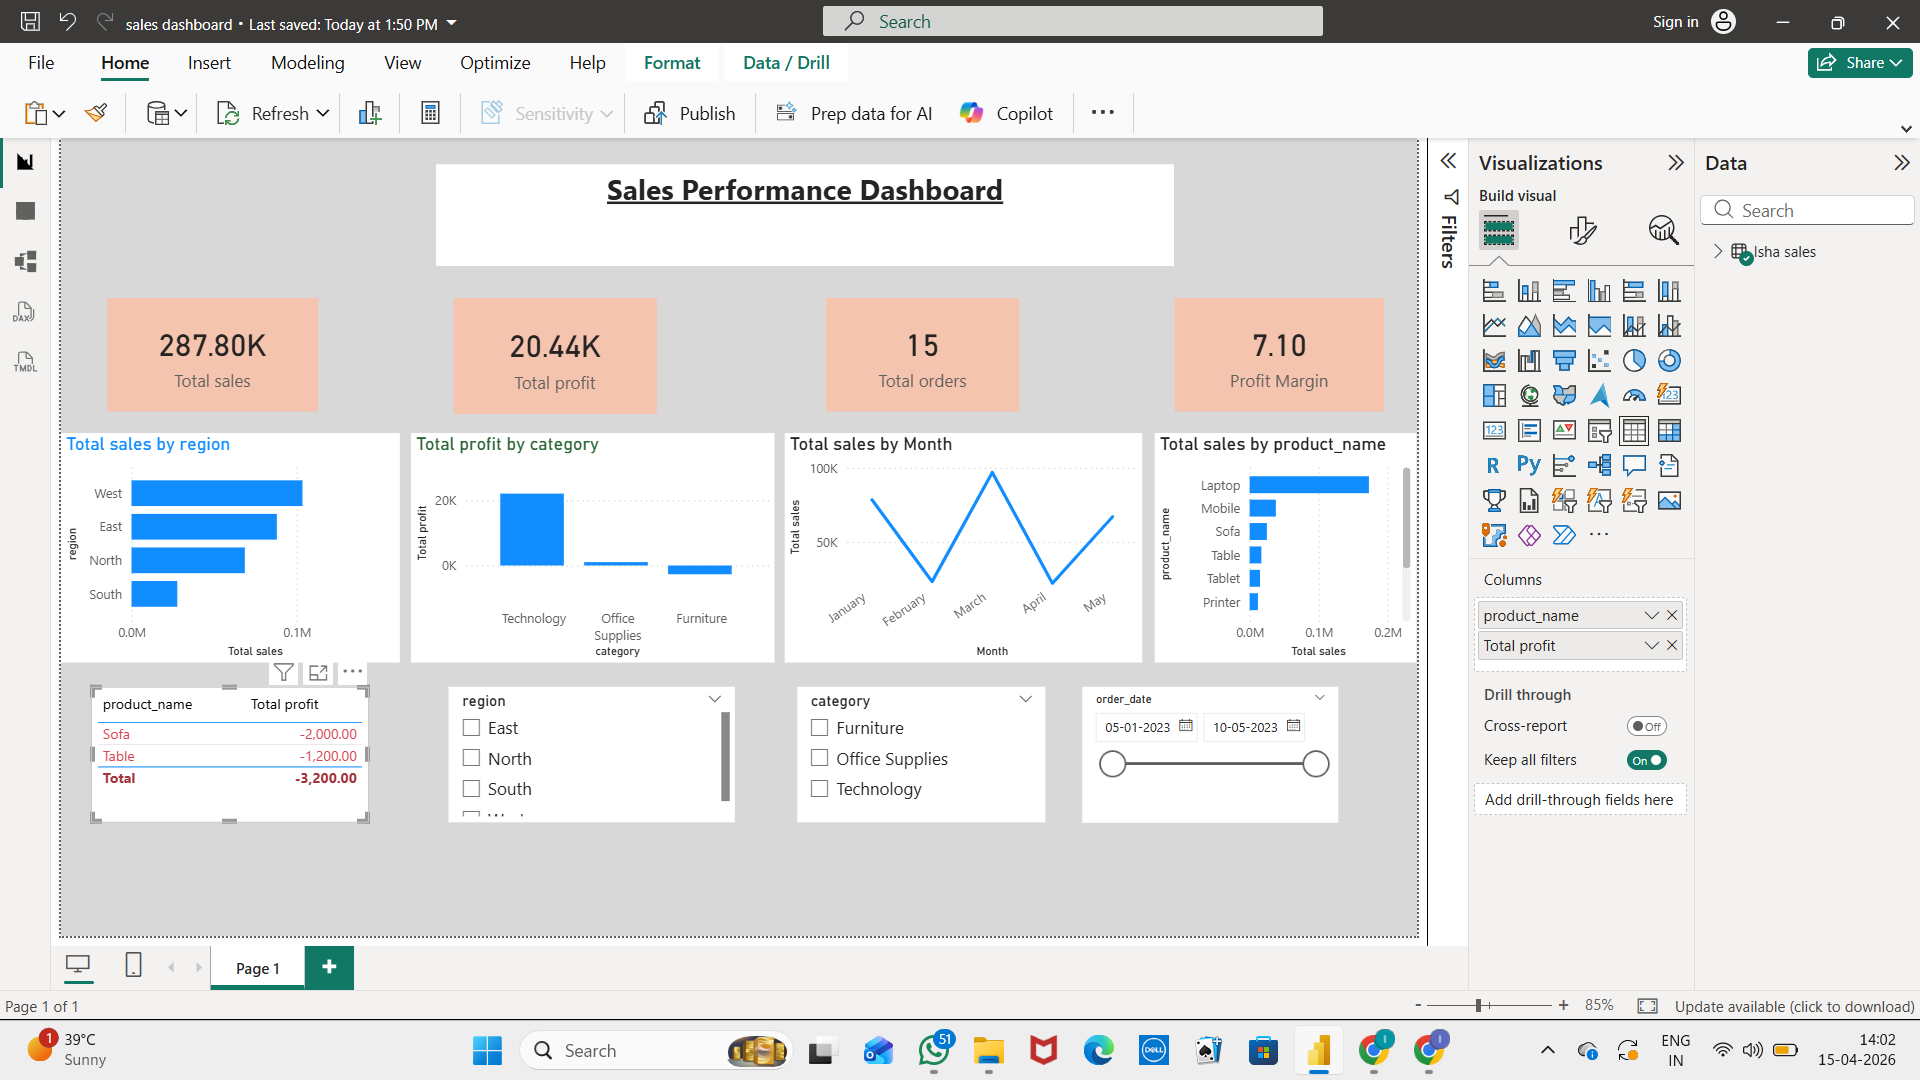

Layout of this report page (visuals, bound fields, positions):
{"tool":"powerbi","page":{"name":"Page 1","canvas":[1280,754],"ordinal":0},"visuals":[{"type":"card","fields":{"Values":["Isha sales.Total sales"]},"box":[43.9,150.9,199,107],"z":0},{"type":"card","fields":{"Values":["Isha sales.Total profit"]},"box":[370.5,150.9,192.1,109.8],"z":1000},{"type":"card","fields":{"Values":["Isha sales.Total orders"]},"box":[721.8,150.9,182.5,107],"z":2000},{"type":"card","fields":{"Values":["Isha sales.Profit Margin"]},"box":[1051.1,150.9,197.6,107],"z":3000},{"type":"clusteredBarChart","fields":{"Category":["Isha sales.region"],"Y":["Isha sales.Total sales"]},"box":[0,278.6,319.7,216.8],"z":4000},{"type":"clusteredColumnChart","fields":{"Y":["Isha sales.Total profit"],"Category":["Isha sales.category"]},"box":[330.7,278.6,343.1,216.8],"z":5000},{"type":"lineChart","fields":{"Category":["Isha sales.order_date.Variation.Date Hierarchy.Year","Isha sales.order_date.Variation.Date Hierarchy.Quarter","Isha sales.order_date.Variation.Date Hierarchy.Month","Isha sales.order_date.Variation.Date Hierarchy.Day"],"Y":["Isha sales.Total sales"]},"box":[683.4,278.6,337.6,216.8],"z":6000},{"type":"clusteredBarChart","fields":{"Category":["Isha sales.product_name"],"Y":["Isha sales.Total sales"]},"box":[1033.3,278.6,247,216.8],"z":7000},{"type":"tableEx","fields":{"Values":["Isha sales.product_name","Isha sales.Total profit"]},"box":[28.8,518.7,262.1,127.6],"z":8000},{"type":"slicer","fields":{"Values":["Isha sales.region"]},"box":[366.4,518.7,270.3,127.6],"z":9000},{"type":"slicer","fields":{"Values":["Isha sales.category"]},"box":[695.7,518.7,234.6,127.6],"z":10000},{"type":"slicer","fields":{"Values":["Isha sales.order_date"]},"box":[964.7,518.7,241.5,127.6],"z":11000},{"type":"textbox","box":[354,24.7,697.1,96.1],"z":12000}]}

Visuals, with their boxes on the page's 1280x754 design canvas (x1, y1, x2, y2). These are canvas units, not pixel positions in the 1920x1080 screenshot, which may show the page scaled, cropped or inside an application window:
card - Isha sales.Total sales: pyautogui.locateOnScreen(44, 151, 243, 258)
card - Isha sales.Total profit: pyautogui.locateOnScreen(370, 151, 563, 261)
card - Isha sales.Total orders: pyautogui.locateOnScreen(722, 151, 904, 258)
card - Isha sales.Profit Margin: pyautogui.locateOnScreen(1051, 151, 1249, 258)
clusteredBarChart - Isha sales.region x Isha sales.Total sales: pyautogui.locateOnScreen(0, 279, 320, 495)
clusteredColumnChart - Isha sales.Total profit x Isha sales.category: pyautogui.locateOnScreen(331, 279, 674, 495)
lineChart - Isha sales.order_date.Variation.Date Hierarchy.Year x Isha sales.order_date.Variation.Date Hierarchy.Quarter: pyautogui.locateOnScreen(683, 279, 1021, 495)
clusteredBarChart - Isha sales.product_name x Isha sales.Total sales: pyautogui.locateOnScreen(1033, 279, 1280, 495)
tableEx - Isha sales.product_name x Isha sales.Total profit: pyautogui.locateOnScreen(29, 519, 291, 646)
slicer - Isha sales.region: pyautogui.locateOnScreen(366, 519, 637, 646)
slicer - Isha sales.category: pyautogui.locateOnScreen(696, 519, 930, 646)
slicer - Isha sales.order_date: pyautogui.locateOnScreen(965, 519, 1206, 646)
textbox: pyautogui.locateOnScreen(354, 25, 1051, 121)
